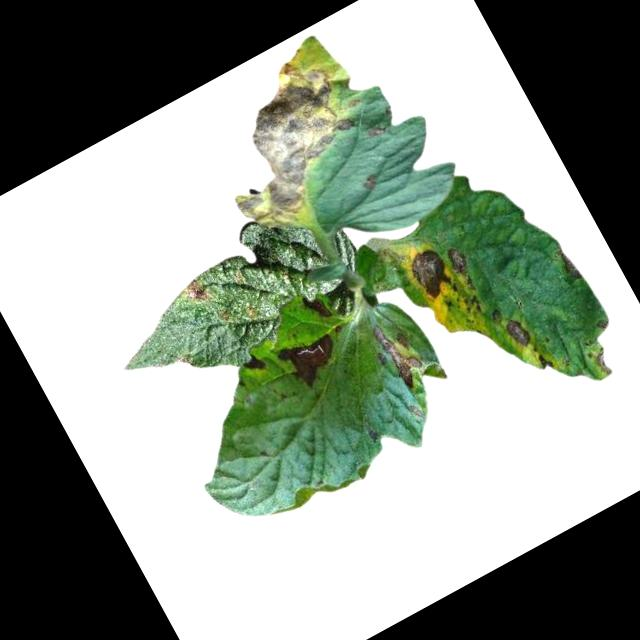Early_blight: (183, 39, 379, 237), (363, 311, 432, 397), (275, 322, 351, 396), (402, 240, 460, 307), (500, 312, 536, 350), (301, 288, 336, 326), (587, 340, 619, 378), (443, 243, 474, 279), (237, 345, 269, 378), (181, 275, 212, 309), (551, 243, 579, 277), (358, 171, 381, 195), (365, 118, 389, 141)
